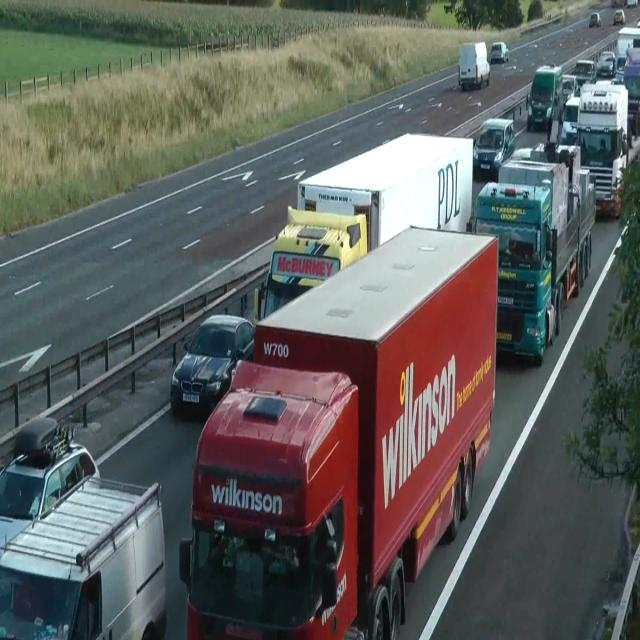bus: (0, 415, 100, 551), (170, 313, 254, 418), (472, 118, 514, 180), (561, 74, 579, 105), (596, 51, 617, 77), (489, 42, 509, 63), (614, 56, 626, 83), (589, 12, 601, 28), (613, 9, 625, 25), (444, 1, 456, 13), (626, 0, 638, 7)
car: (179, 222, 499, 638), (178, 358, 360, 638), (0, 414, 166, 638), (468, 140, 596, 367), (254, 204, 368, 322)
minibus: (254, 132, 474, 324), (575, 82, 629, 218), (526, 62, 563, 132), (458, 41, 490, 91), (623, 44, 639, 138), (614, 25, 640, 64)
